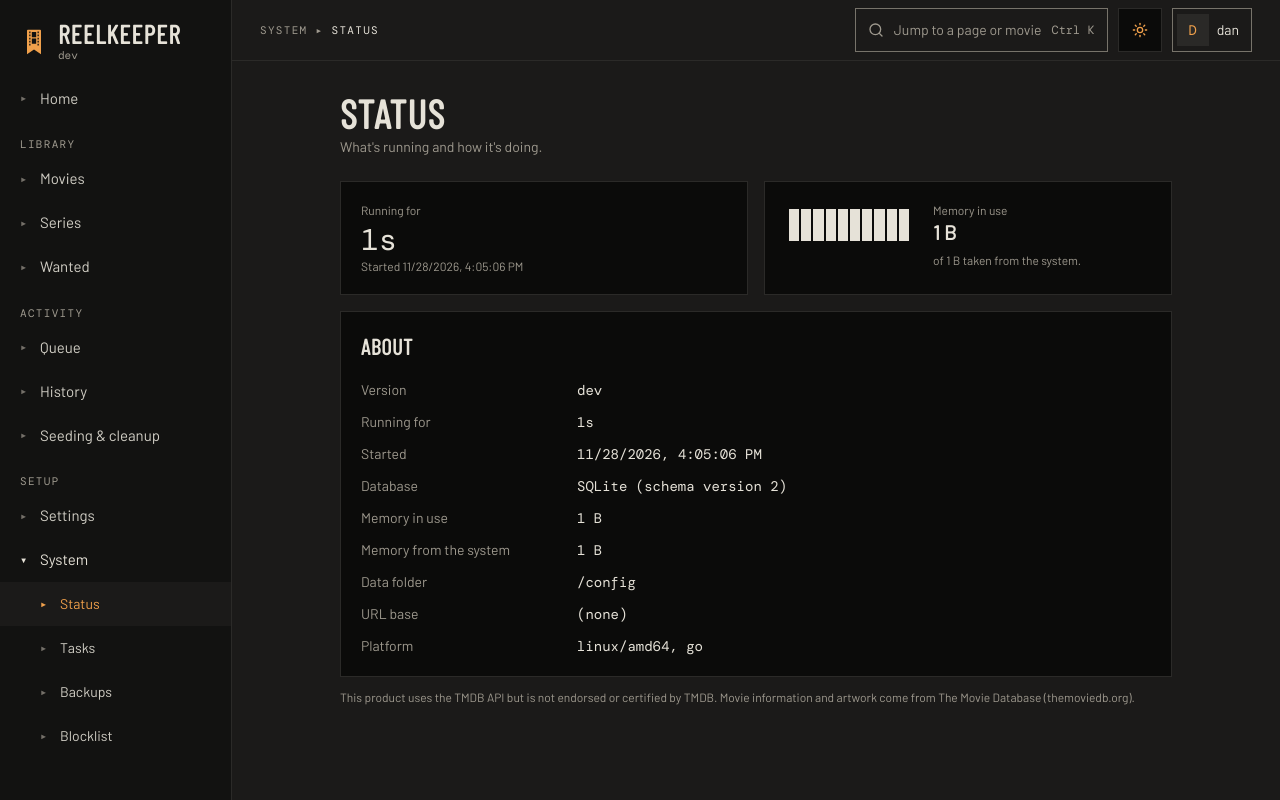
account menu › says when single sign-on is already linked
The image size is (1280, 800).
Click the button with aria-label "Account menu".
click(1212, 30)  # box [1172,8,1252,52]
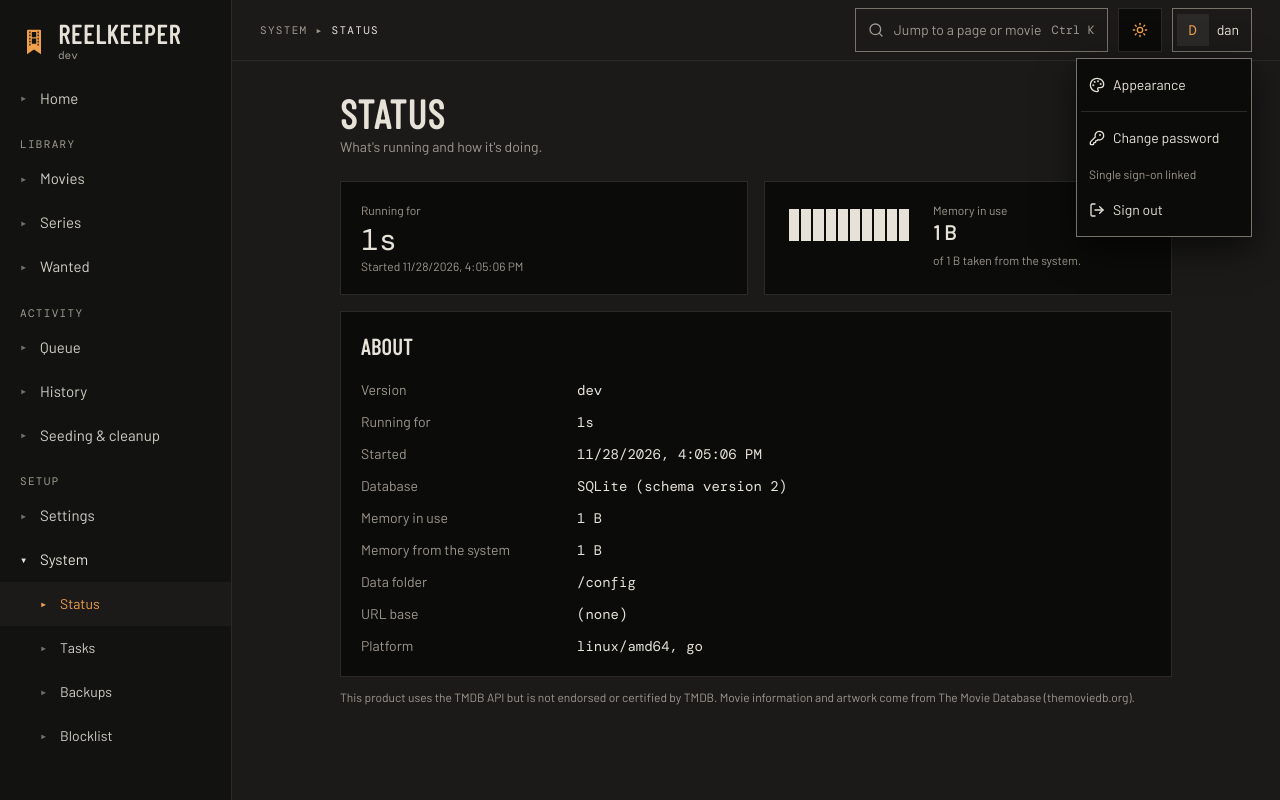
Expected: the text "Single sign-on linked" is shown, [1089,167,1196,181]
